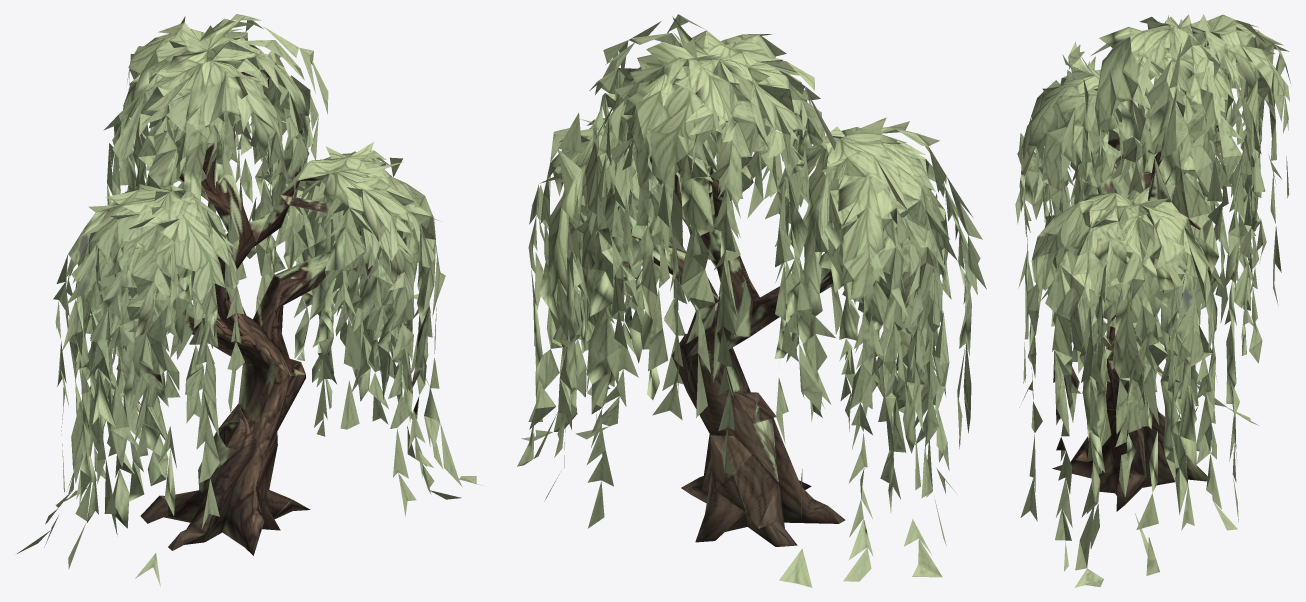
Rendered from Prop_Willow.fbx.
The picture shows the model from 3 angles, left to right: view 1: azimuth 30°, elevation 25°; view 2: azimuth 150°, elevation 25°; view 3: azimuth 270°, elevation 25°; orthographic projection. The views are drawn at different scales.
Parts seen in each view (by area): view 1: Mesh_0; view 2: Mesh_0; view 3: Mesh_0.
Part boxes in pixels (bbox=[...]): Mesh_0: bbox=[17, 14, 482, 587]; Mesh_0: bbox=[517, 14, 986, 587]; Mesh_0: bbox=[1015, 14, 1290, 587].
Size of the model in its own units: 168 by 178 by 94.19.
1 material, 1 textured.
